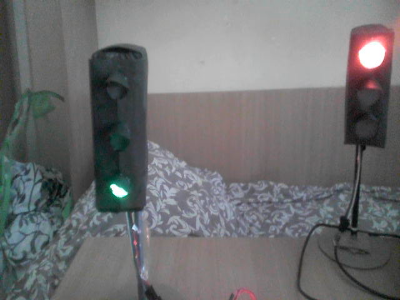trafficlight_green: (90, 54, 143, 209)
trafficlight_red: (346, 31, 392, 142)
